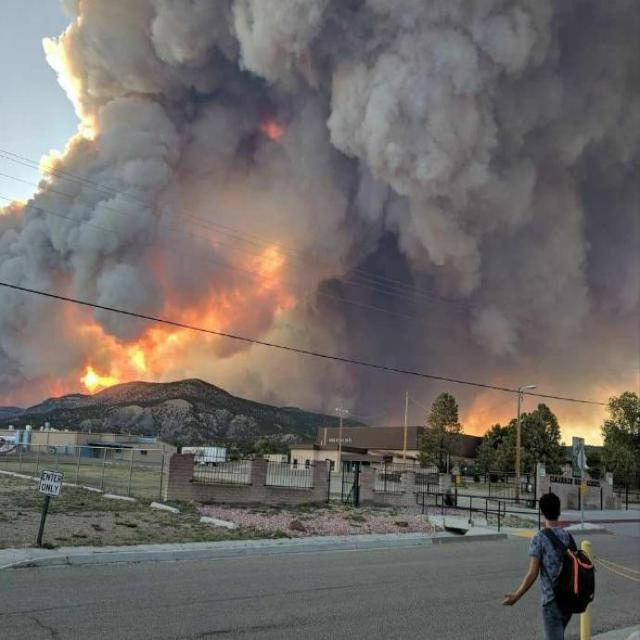Fire: (33, 238, 320, 418)
